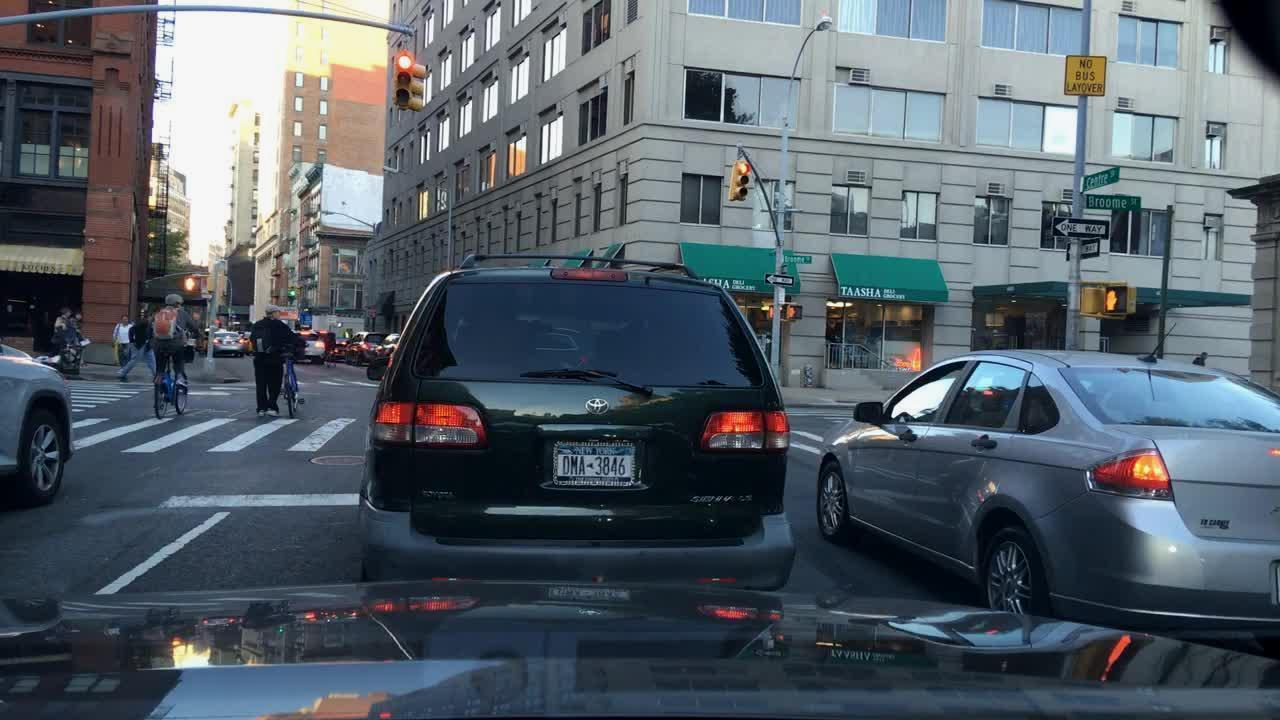Toyota: (584, 396, 616, 421)
